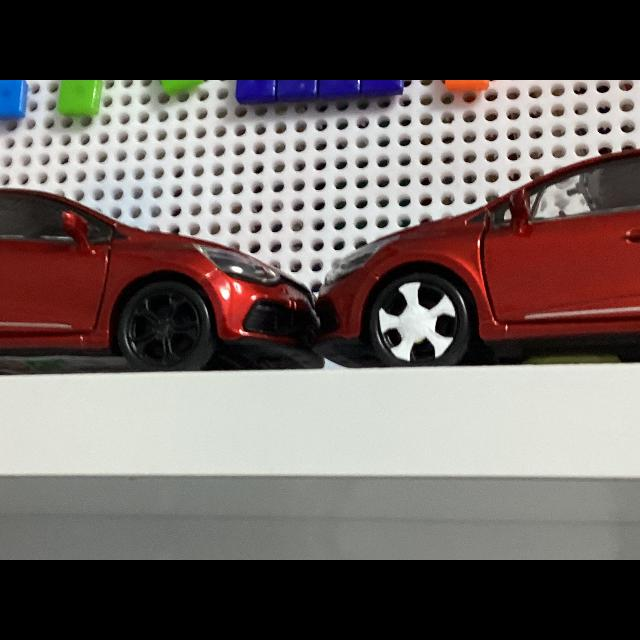Dogru_Jant: (125, 290, 199, 364)
Yanlis_Jant: (378, 282, 458, 364)
